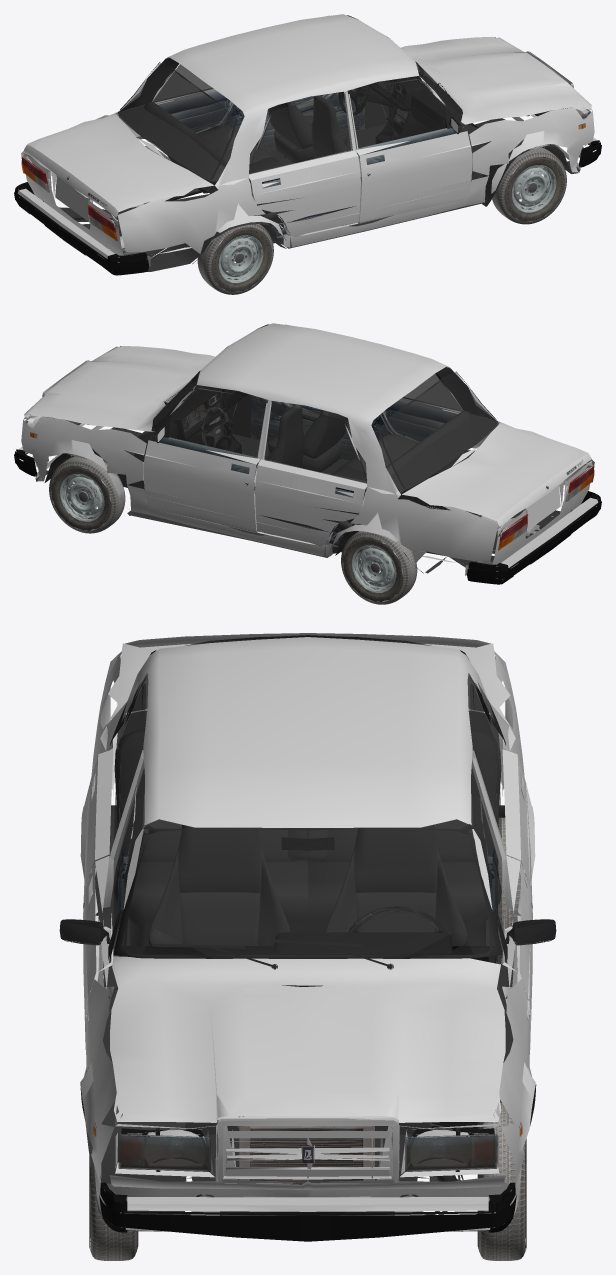
Rendered from lada_lite.glb.
3 renders of one model, top to bottom at view 1: azimuth 30°, elevation 25°; view 2: azimuth 150°, elevation 25°; view 3: azimuth 270°, elevation 25°, orthographic. The views are drawn at different scales.
Bounding box in the file's own units: 4.17 × 1.42 × 1.8.
35 materials, 11 textured.
